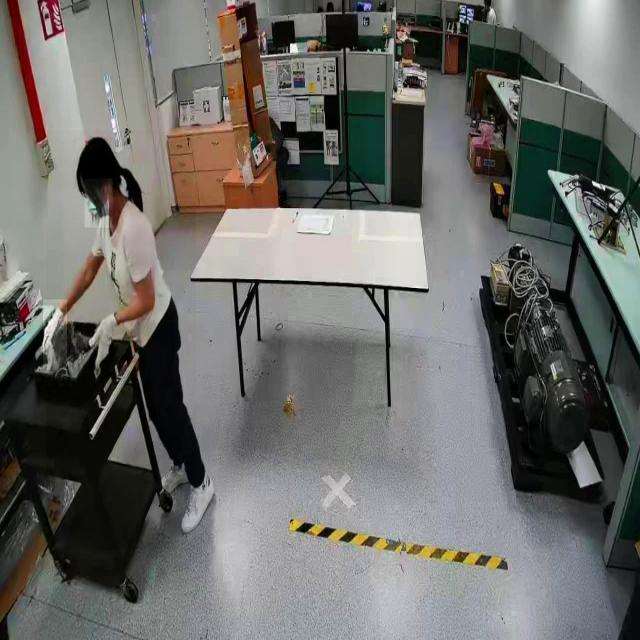face_mask: (84, 178, 112, 228)
hand_glove: (87, 308, 119, 382), (43, 300, 67, 370)
head_nohelmet: (73, 137, 116, 187)
person: (46, 131, 196, 550)
shoes: (177, 465, 217, 542), (156, 453, 194, 497)
